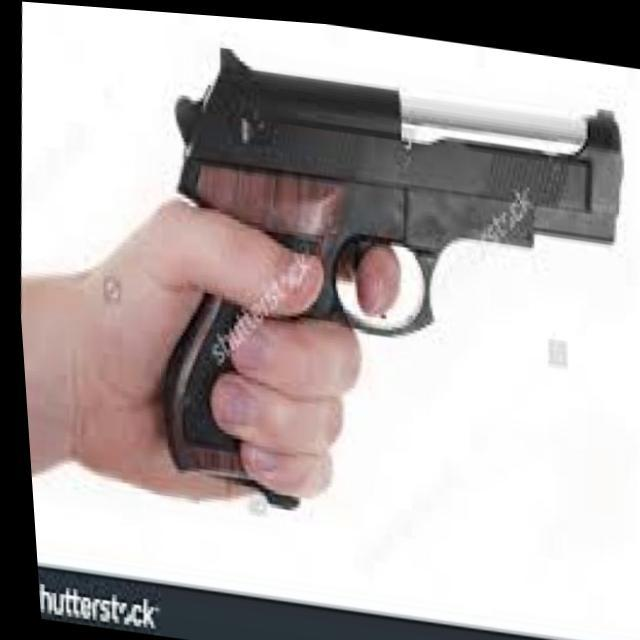weapon: (128, 27, 640, 547)
